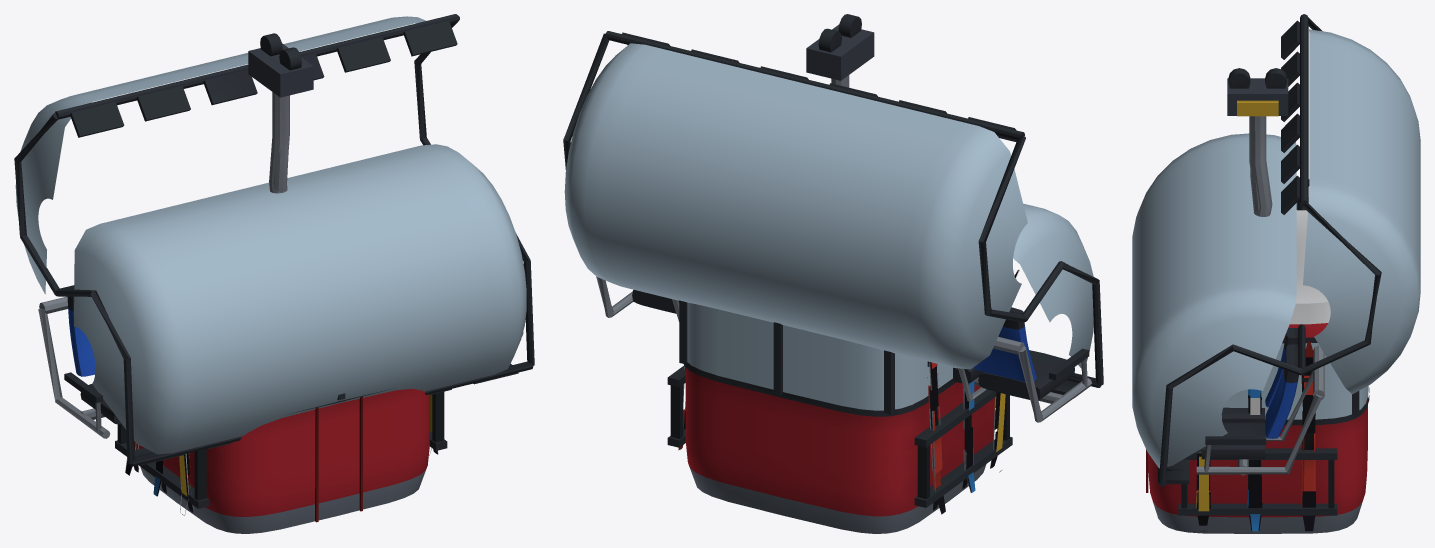
The model's file is lift_vehicles.glb.
3 views of the same model, side by side, from view 1: azimuth 30°, elevation 25°; view 2: azimuth 150°, elevation 25°; view 3: azimuth 270°, elevation 25° (orthographic). The views are drawn at different scales.
Parts seen in each view (by area): view 1: bubble_closed, cabin10_body, chair6_open, chair6_closed, bubble_open; view 2: bubble_open, cabin10_body, cabin10_glass, chair6_closed, bubble_closed, chair6_open; view 3: bubble_closed, bubble_open, cabin10_body, chair6_closed, chair6_open, cabin10_glass.
Part boxes in pixels (x1,y1,x2,y2): bubble_closed: [74, 144, 526, 454]; cabin10_body: [115, 33, 447, 533]; chair6_open: [14, 14, 459, 295]; chair6_closed: [38, 46, 534, 466]; bubble_open: [15, 16, 425, 294]; bubble_open: [564, 43, 1027, 369]; cabin10_body: [667, 14, 1019, 533]; cabin10_glass: [687, 302, 952, 410]; chair6_closed: [596, 26, 1103, 422]; bubble_closed: [1013, 203, 1093, 368]; chair6_open: [563, 31, 1027, 322]; bubble_closed: [1132, 133, 1296, 468]; bubble_open: [1303, 29, 1420, 394]; cabin10_body: [1146, 68, 1369, 533]; chair6_closed: [1158, 78, 1324, 486]; chair6_open: [1281, 14, 1381, 375]; cabin10_glass: [1223, 343, 1368, 419].
Size of the model in its own units: 3.82 by 3.74 by 2.36.
